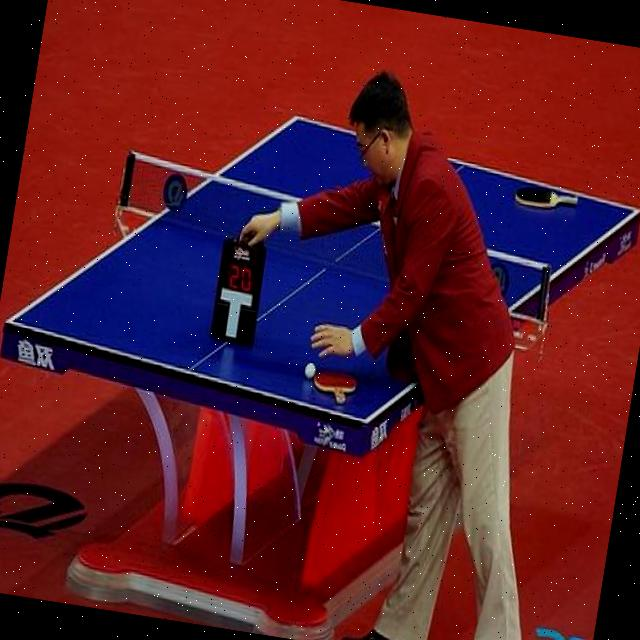ping-pong-ball: (302, 359, 316, 383)
